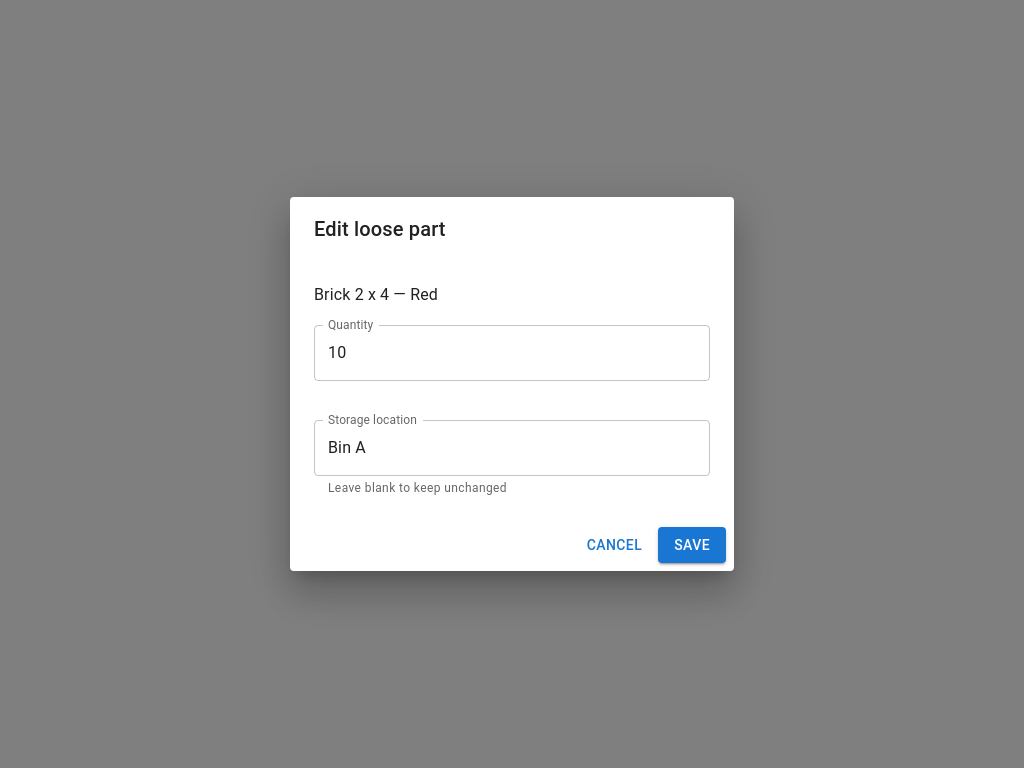
Test: EditPartDialog › surfaces a server error and keeps the dialog open
Click the button "Save" at (692, 545), box x1=658 y1=527 x2=726 y2=563
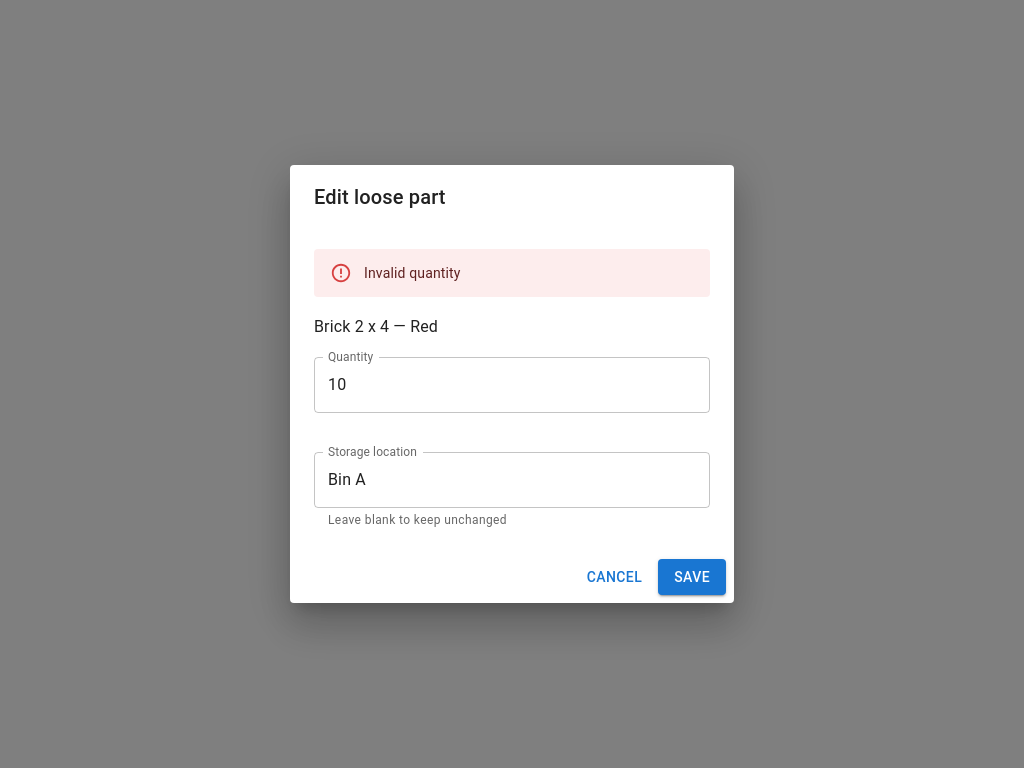
Now the text "Invalid quantity" is shown, box x1=364 y1=265 x2=461 y2=281
